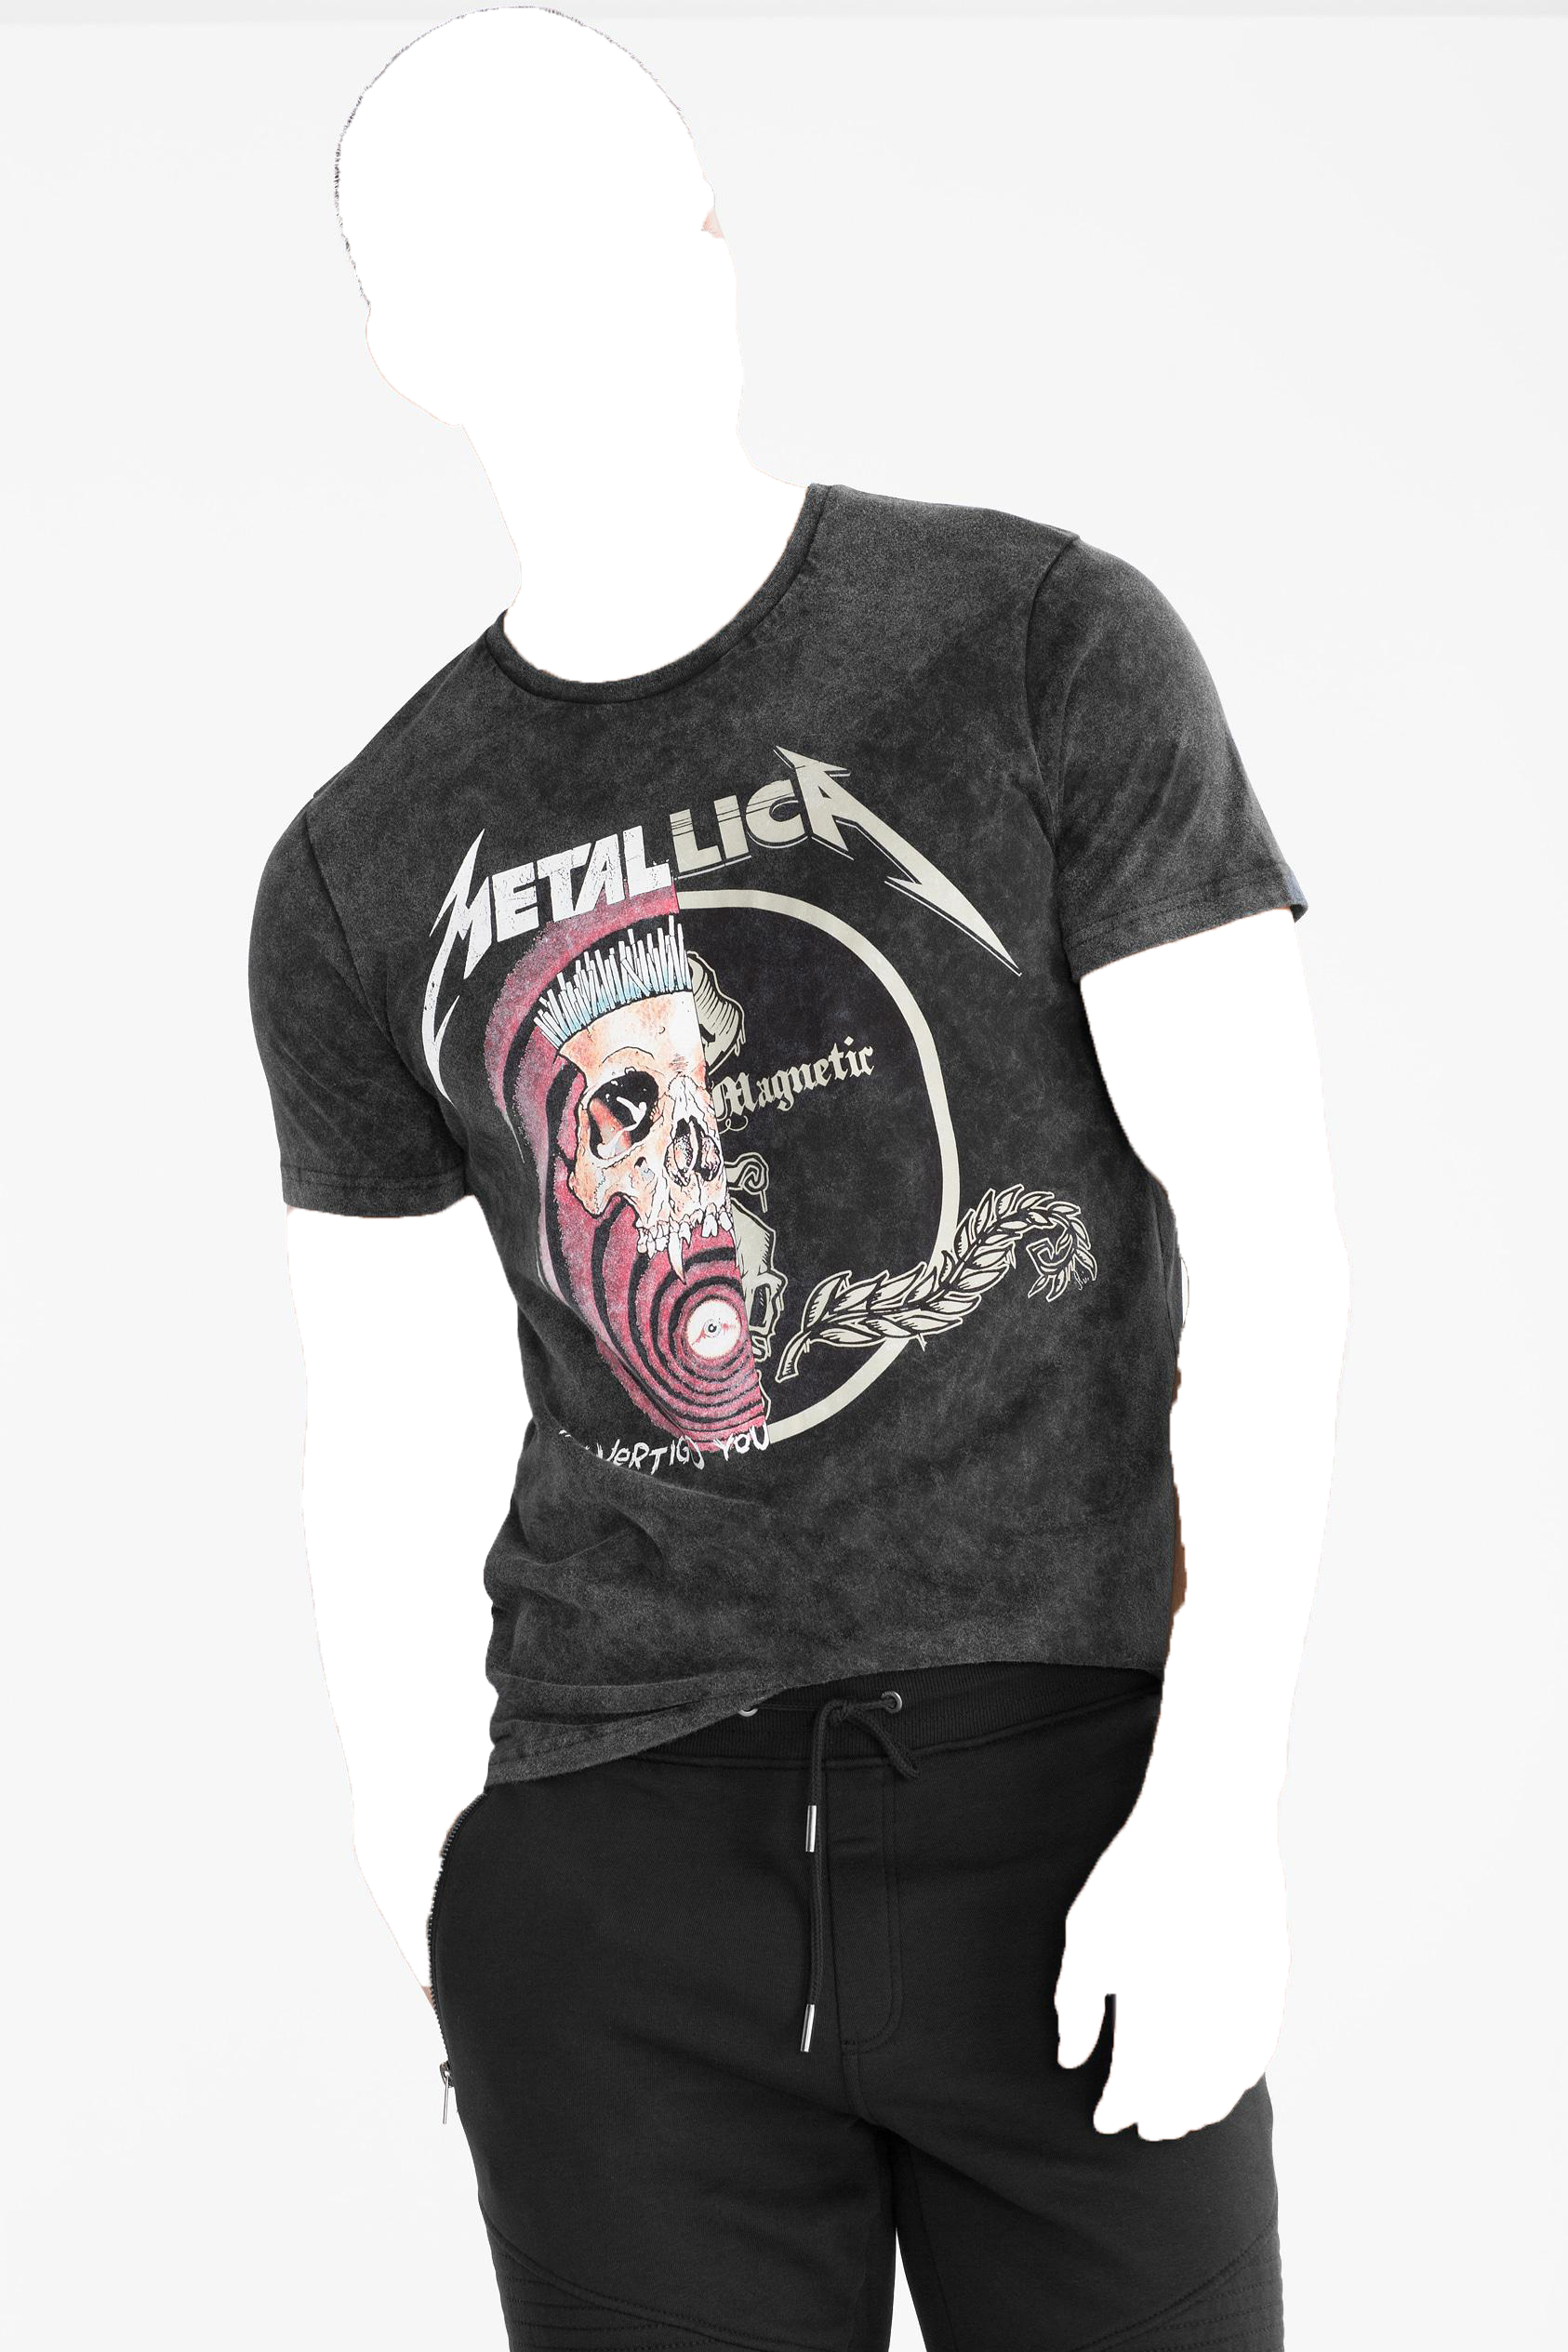teeshirt: (199, 474, 1340, 1769)
